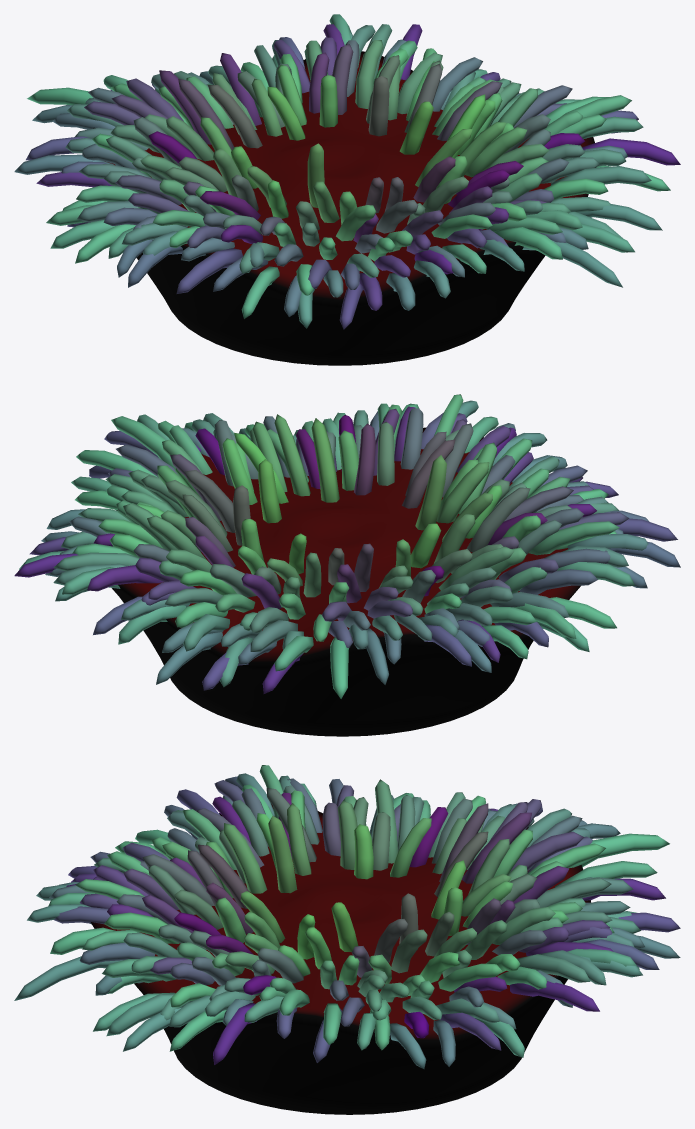
Rendered from clownfish_anemone.glb.
3 renders of one model, top to bottom at view 1: azimuth 30°, elevation 25°; view 2: azimuth 150°, elevation 25°; view 3: azimuth 270°, elevation 25°, orthographic.
Visible parts, largest first — view 1: clownfish_anemone; view 2: clownfish_anemone; view 3: clownfish_anemone.
Boxes of the visible parts, x1,y1,x2,y2 form: clownfish_anemone: (14,14,680,365); clownfish_anemone: (14,394,680,736); clownfish_anemone: (14,765,680,1114).
Size of the model in its own units: 0.507 by 0.1689 by 0.5249.
